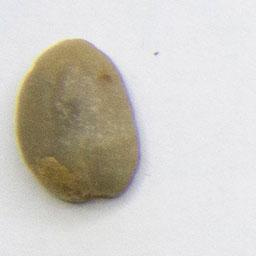longberry: (12, 35, 146, 207)
